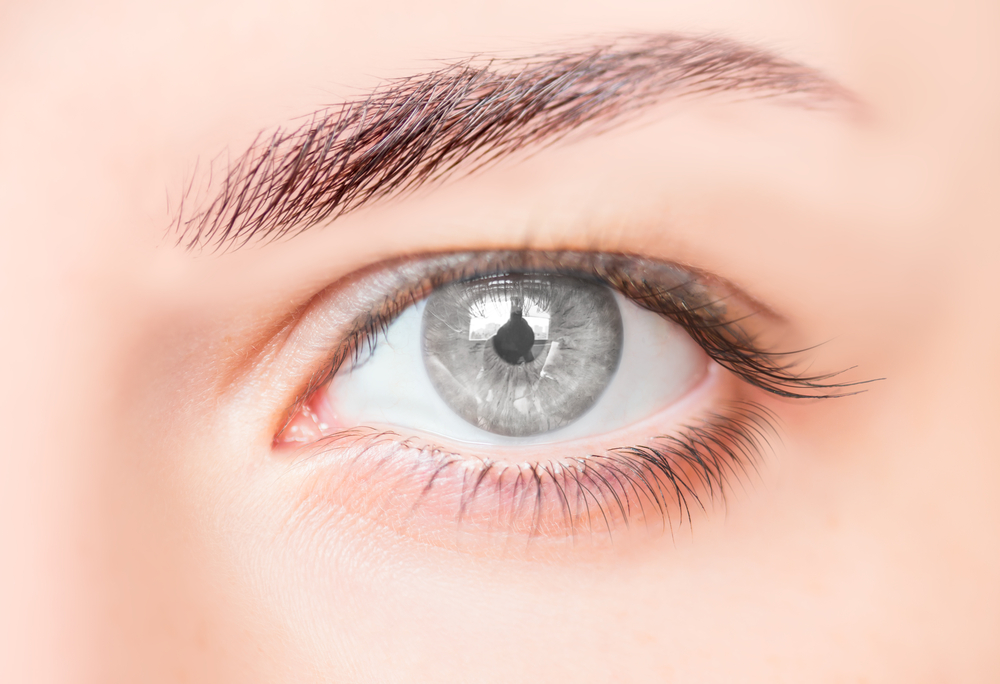iris: (423, 258, 625, 437)
pupil: (490, 310, 545, 363)
